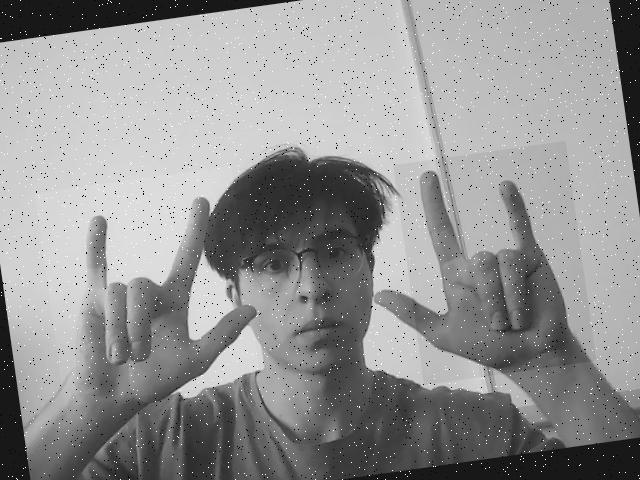I_Love_You: (35, 166, 261, 407), (394, 141, 596, 386)
